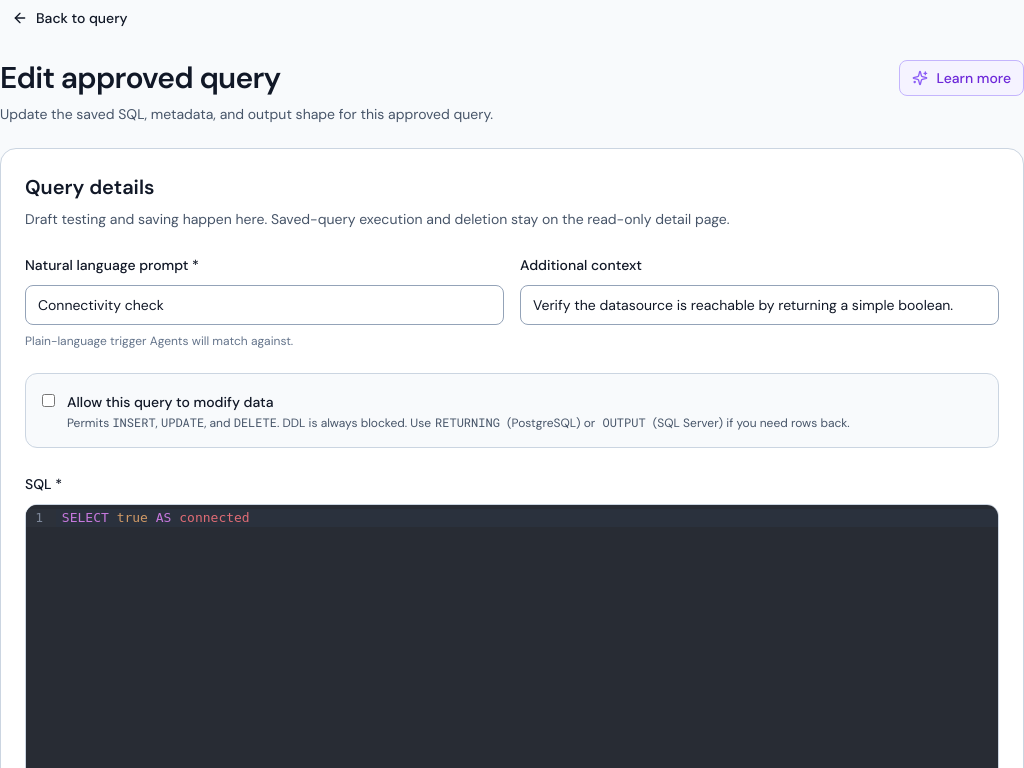
Test: QueryEditorPage › saves edits and redirects back to the detail route
This screenshot has width=1024, height=768.
Replace the text in the field labelled "Natural language prompt *" with "Connectivity check updated" at {"x": 264, "y": 305}, box 25,285 -> 504,325
(page scrolled)
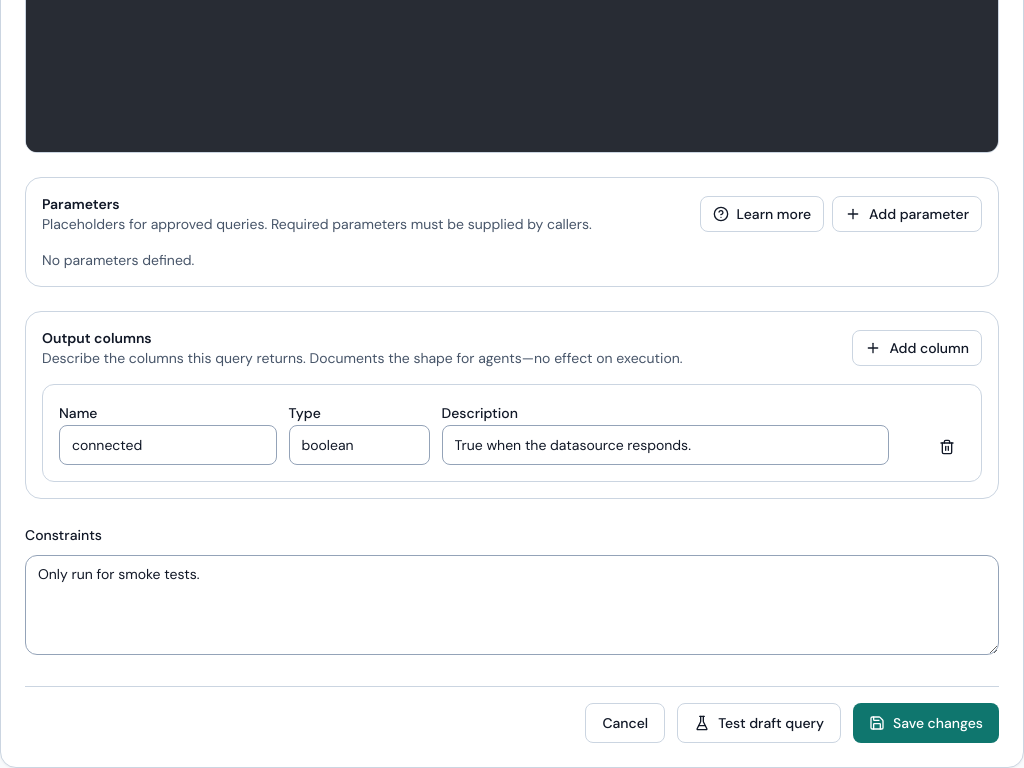
Click the button "Save changes" at {"x": 926, "y": 723}, box 853,703 -> 999,743
(page scrolled)
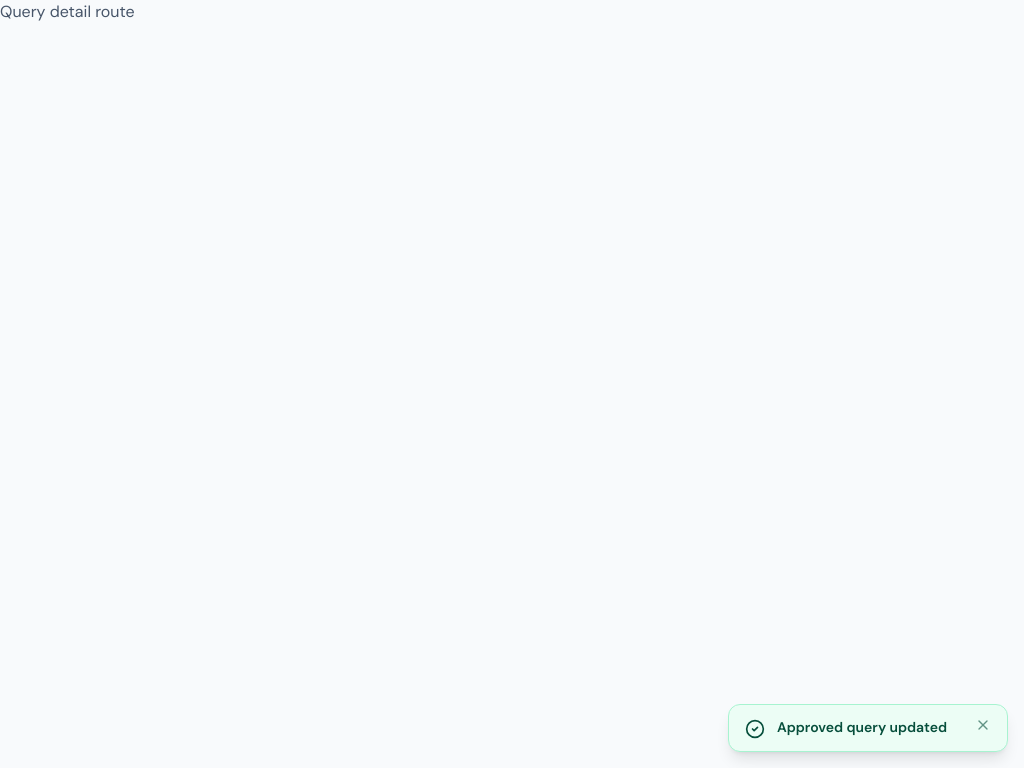
Expected: the text "Query detail route" is shown, 0,1 -> 135,22
